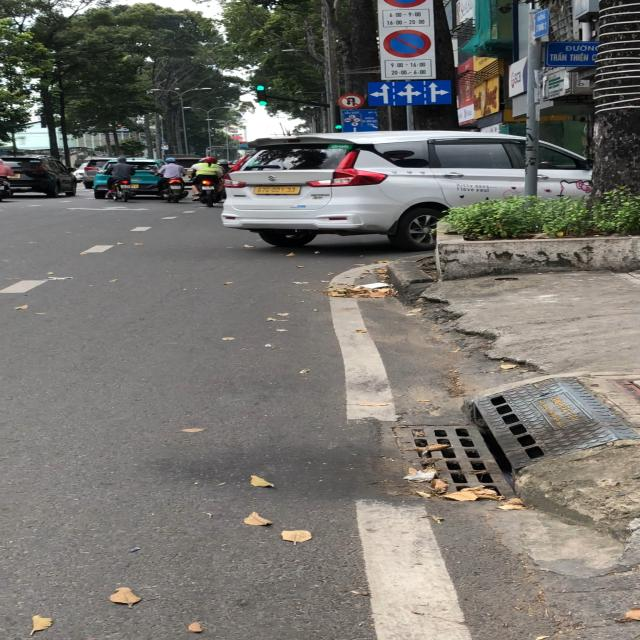Bien bao cam do xe: (379, 26, 432, 59)
Bien bao cam quay dau xe: (336, 92, 365, 111)
